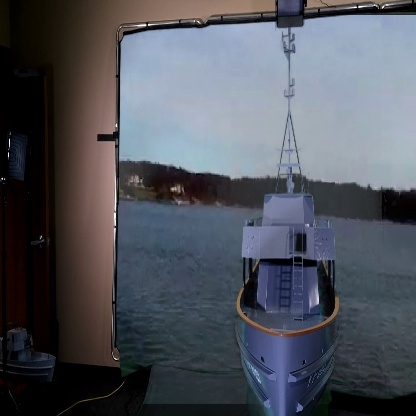YP689: (235, 30, 341, 416)
